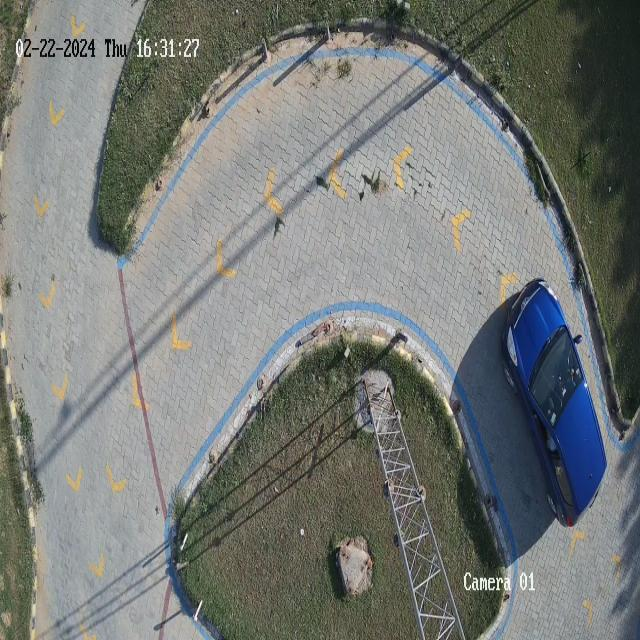car: (500, 277, 608, 529)
